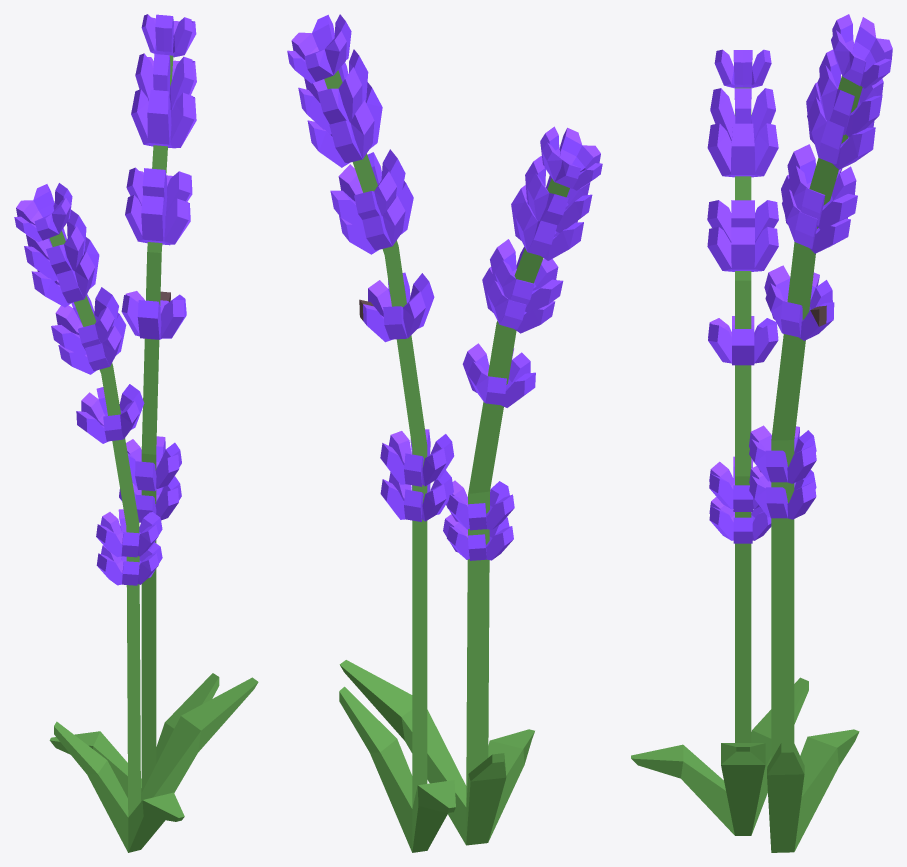
File: SoftSkills.glb
3 views of the same model, side by side, from view 1: azimuth 30°, elevation 25°; view 2: azimuth 150°, elevation 25°; view 3: azimuth 270°, elevation 25° (orthographic). The views are drawn at different scales.
Visible parts, largest first — view 1: Lavender1, Lavender2; view 2: Lavender1, Lavender2; view 3: Lavender2, Lavender1.
Part boxes in pixels (x1,y1,x2,y2): Lavender1: (14,183,258,852); Lavender2: (49,14,219,797); Lavender1: (339,126,602,845); Lavender2: (287,14,455,852); Lavender2: (749,14,892,852); Lavender1: (631,49,808,835).
Bounding box in the file's own units: 0.5496 × 1.73 × 0.4787.
Materials: 1 (1 with a texture image).
